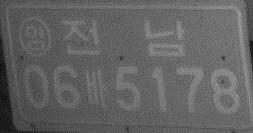0: (22, 63, 51, 110)
1: (144, 66, 174, 114)
5: (113, 65, 142, 114)
6: (53, 65, 82, 110)
7: (176, 66, 204, 114)
8: (209, 67, 241, 116)
바: (83, 68, 109, 108)
영: (17, 15, 52, 57)
전남_D: (60, 17, 186, 57)
